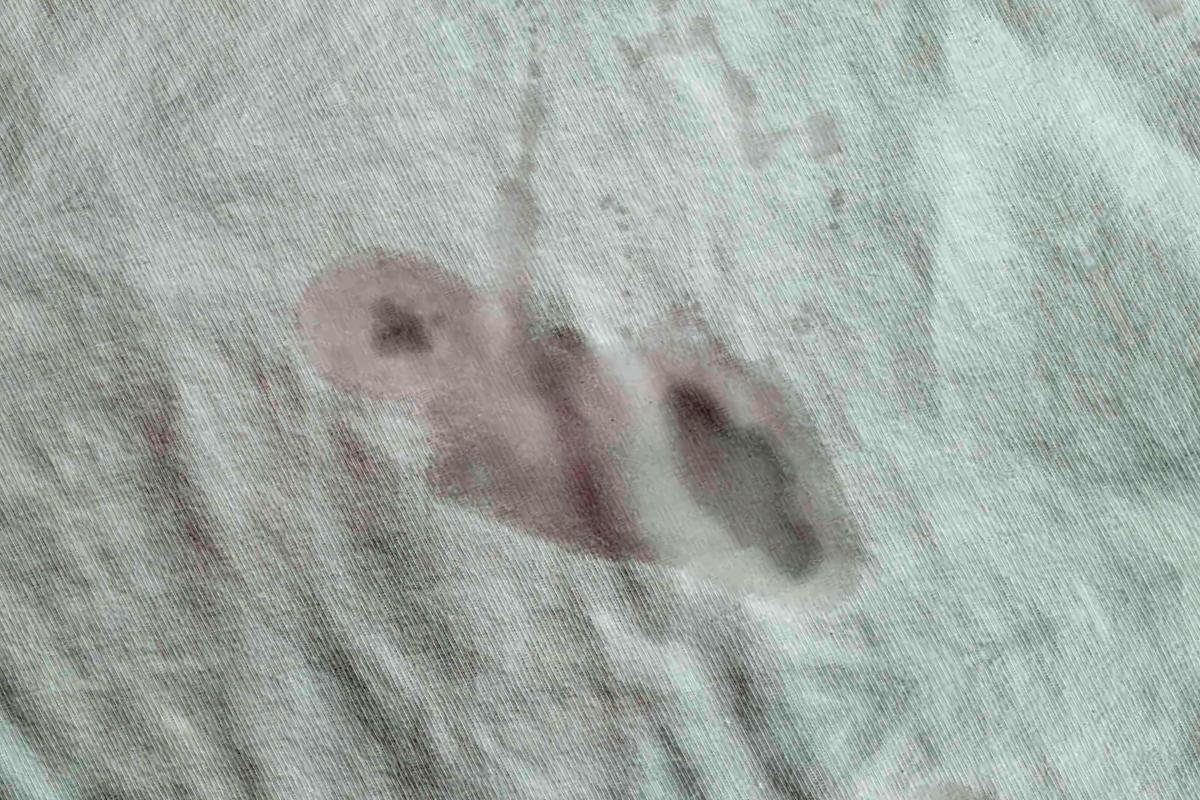stain: (284, 232, 901, 630)
